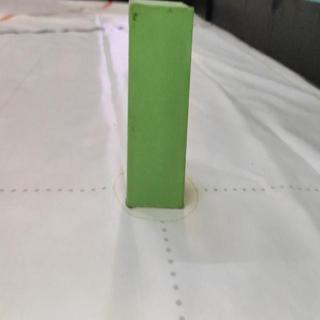greenbox: (126, 0, 196, 209)
